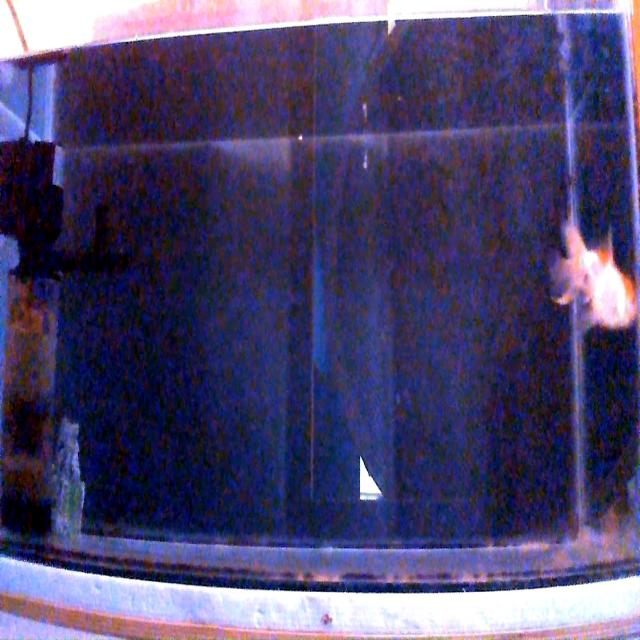fish: (548, 220, 637, 329)
